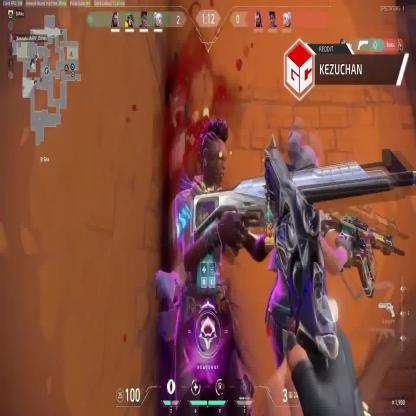enemy: (158, 119, 276, 416), (265, 132, 351, 416), (200, 123, 227, 188)
enemy_head: (287, 133, 320, 204)
